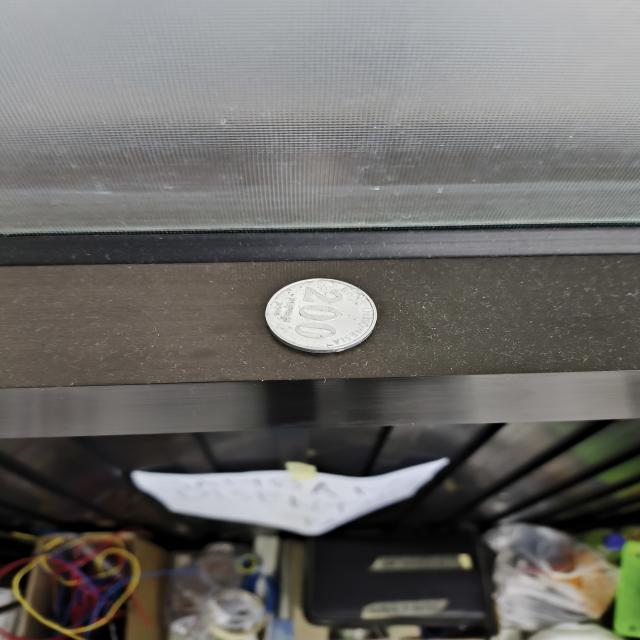1000-sawit: (265, 279, 376, 352)
